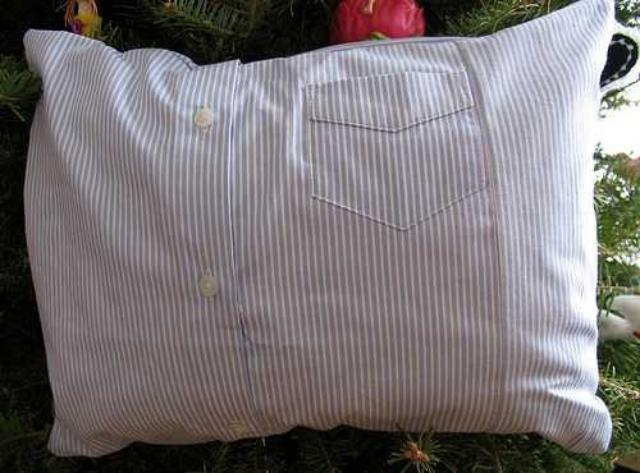pillow: (21, 0, 617, 458)
